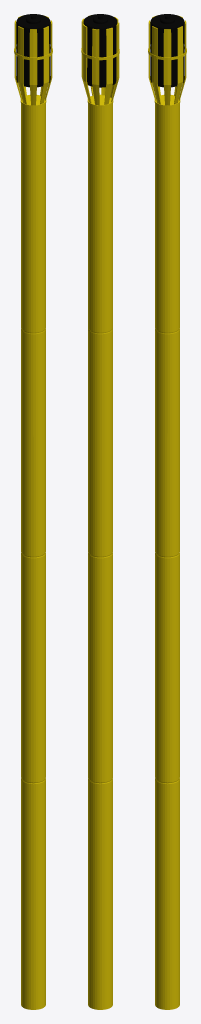
Rendered from Torch.fbx.
3 views of the same model, side by side, from view 1: azimuth 90°, elevation 25°; view 2: azimuth 210°, elevation 25°; view 3: azimuth 270°, elevation 25° (orthographic).
Parts seen in each view (by area): view 1: Cylinder, Cylinder.001; view 2: Cylinder, Cylinder.001; view 3: Cylinder, Cylinder.001.
Part boxes in pixels (x1,y1,x2,y2): Cylinder: [14, 16, 52, 1009]; Cylinder.001: [16, 14, 50, 87]; Cylinder: [81, 16, 119, 1009]; Cylinder.001: [83, 14, 117, 87]; Cylinder: [148, 16, 186, 1009]; Cylinder.001: [150, 14, 184, 87].
Bounding box in the file's own units: 15.56 × 438 × 15.56.
